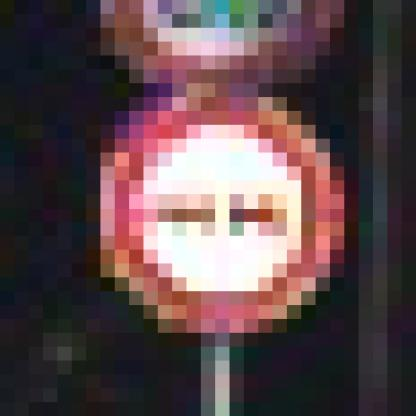No Overtaking: (73, 84, 345, 348)
